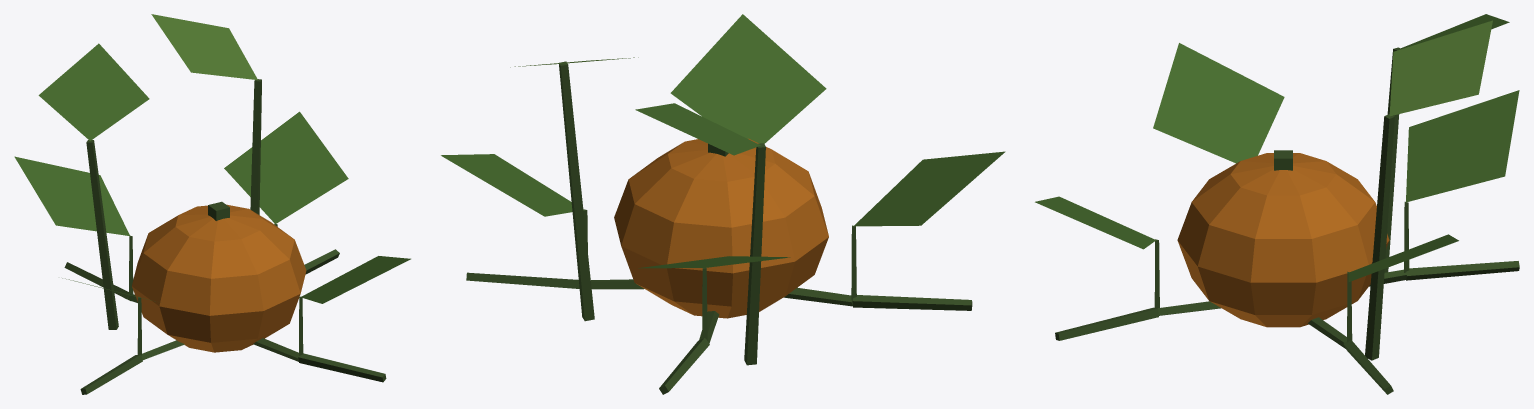
File: crop_pumpkin_stage3.glb
The picture shows the model from 3 angles, left to right: view 1: azimuth 30°, elevation 25°; view 2: azimuth 150°, elevation 25°; view 3: azimuth 270°, elevation 25°; orthographic projection. The views are drawn at different scales.
Parts seen in each view (by area): view 1: Crop; view 2: Crop; view 3: Crop.
Part boxes in pixels (x1,y1,x2,y2): Crop: (14,14,410,394); Crop: (441,14,1005,394); Crop: (1035,14,1519,394).
Bounding box in the file's own units: 1.09 × 0.7693 × 1.1.
